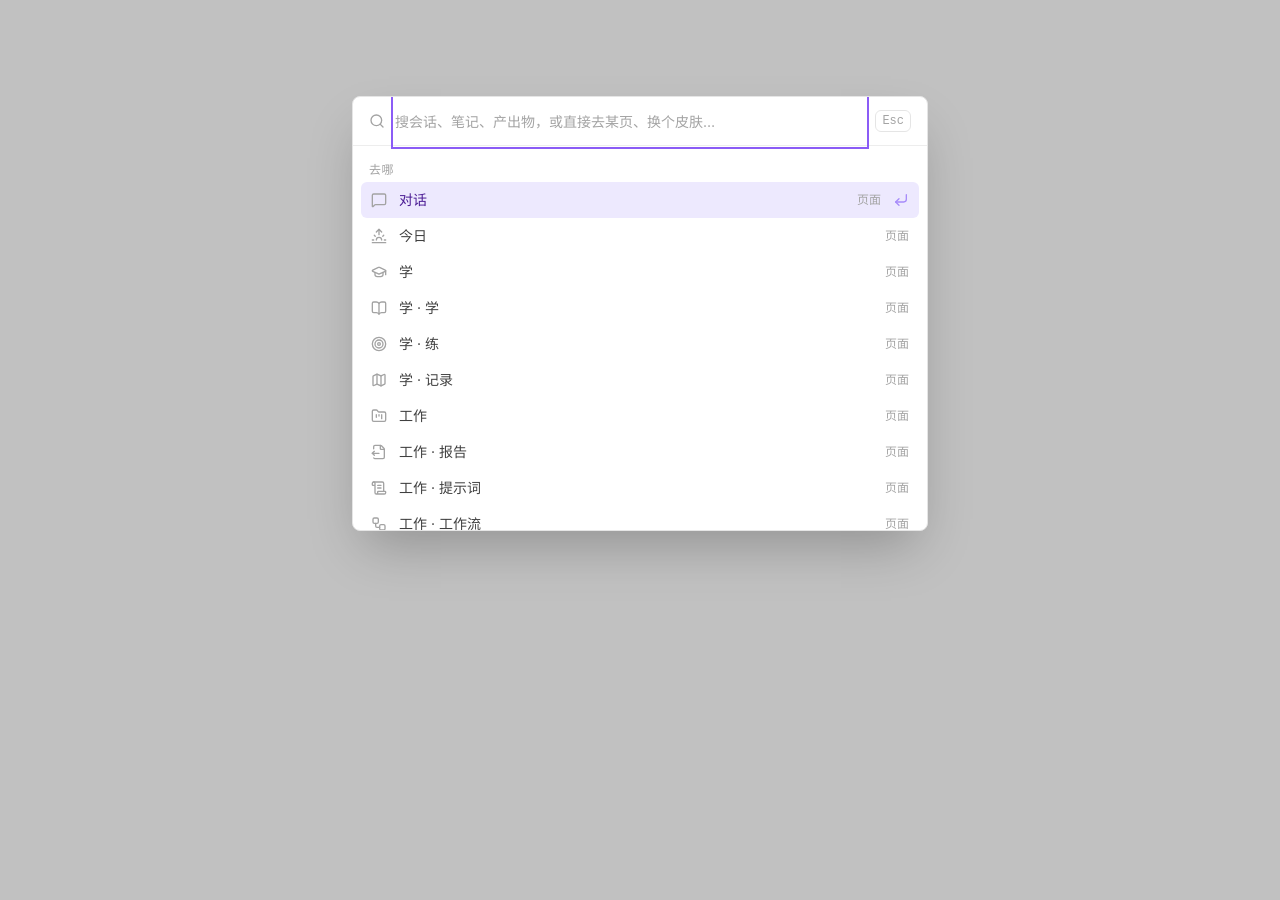
CommandPalette › 输入无匹配的词给出空态，而不是白屏
The image size is (1280, 900).
In the field with placeholder "搜会话、笔记、产出物，或直接去某页、换个皮肤…": x=630, y=121 [395,97,865,145], type "zzz不存在的词"
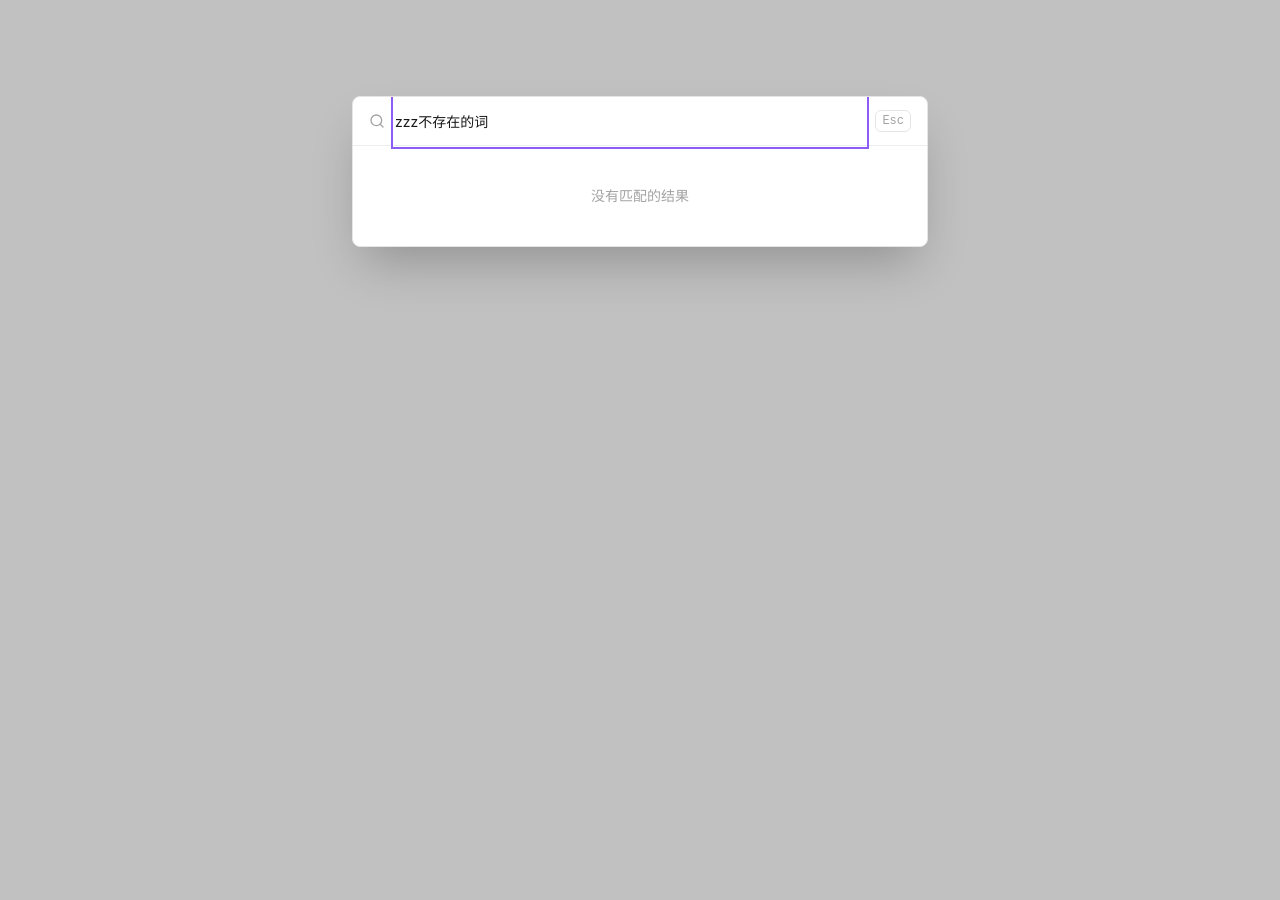
Result: the text "没有匹配的结果" is shown at [591,187,689,204]
